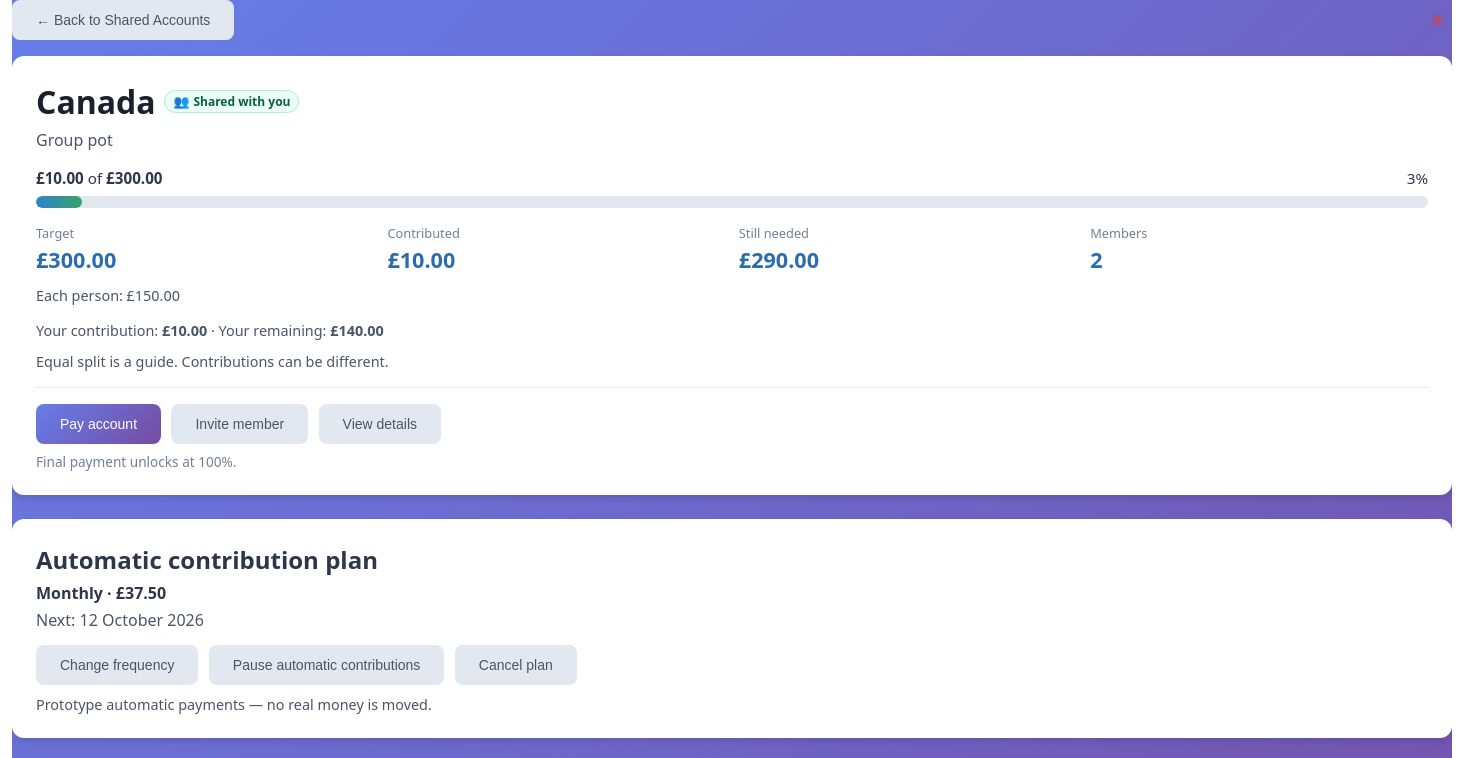
Test: SharedAccountDetail contribution plan management › previews a frequency change and does not persist until confirmation
The width and height of the screenshot is (1464, 758).
Click the button "Change frequency" at (117, 665), box [36,645,198,685]
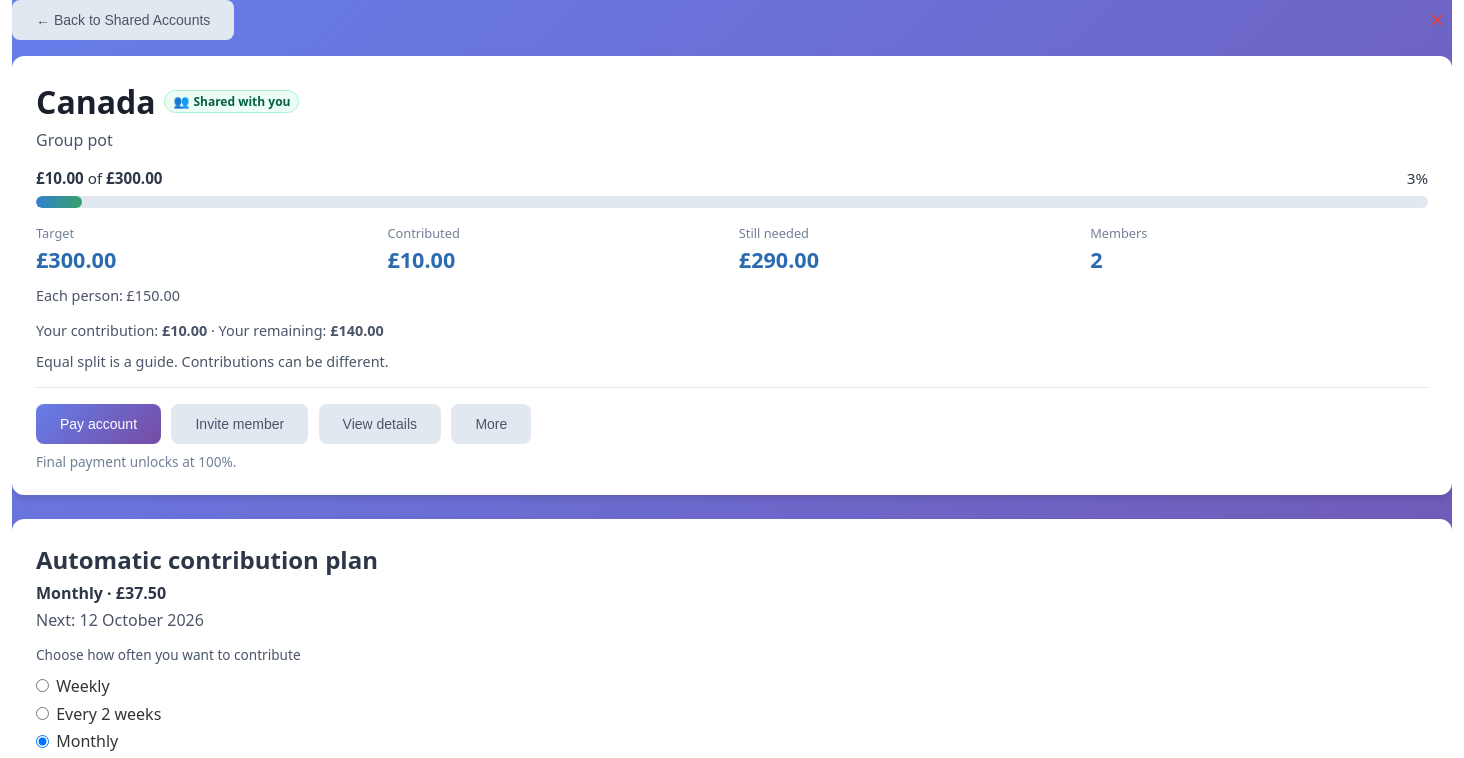
Click the radio button labelled "Every 2 weeks" at (42, 714), box [36,707,49,720]
(page scrolled)
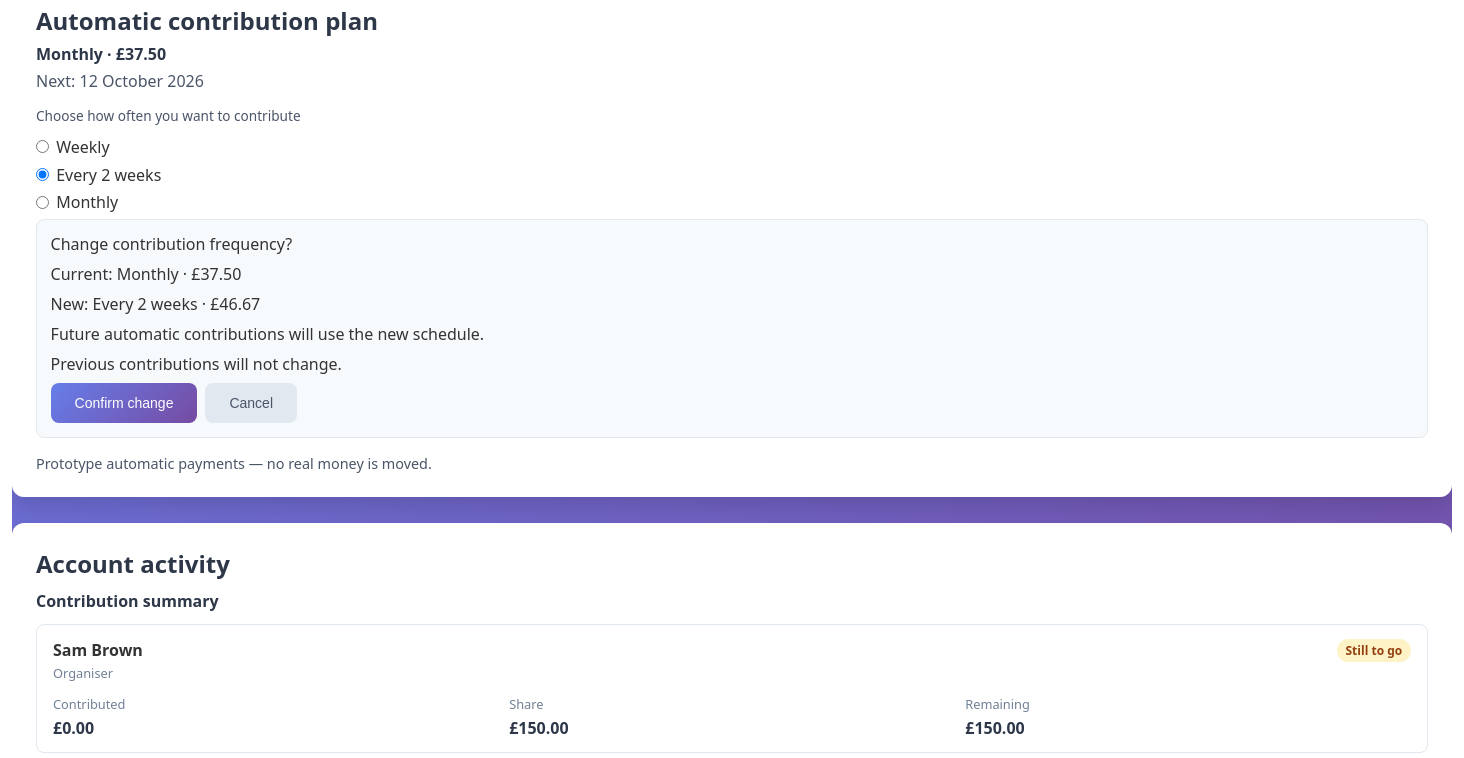
Expected: the text "Change contribution frequency?" is shown, [51,233,292,255]
Expected: the element with test id "member-contribution-plan-summary" shows "Previous contributions will not change.", [51,353,342,375]
Click the button "Cancel" at (251, 403), box [205,383,297,423]
(page scrolled)
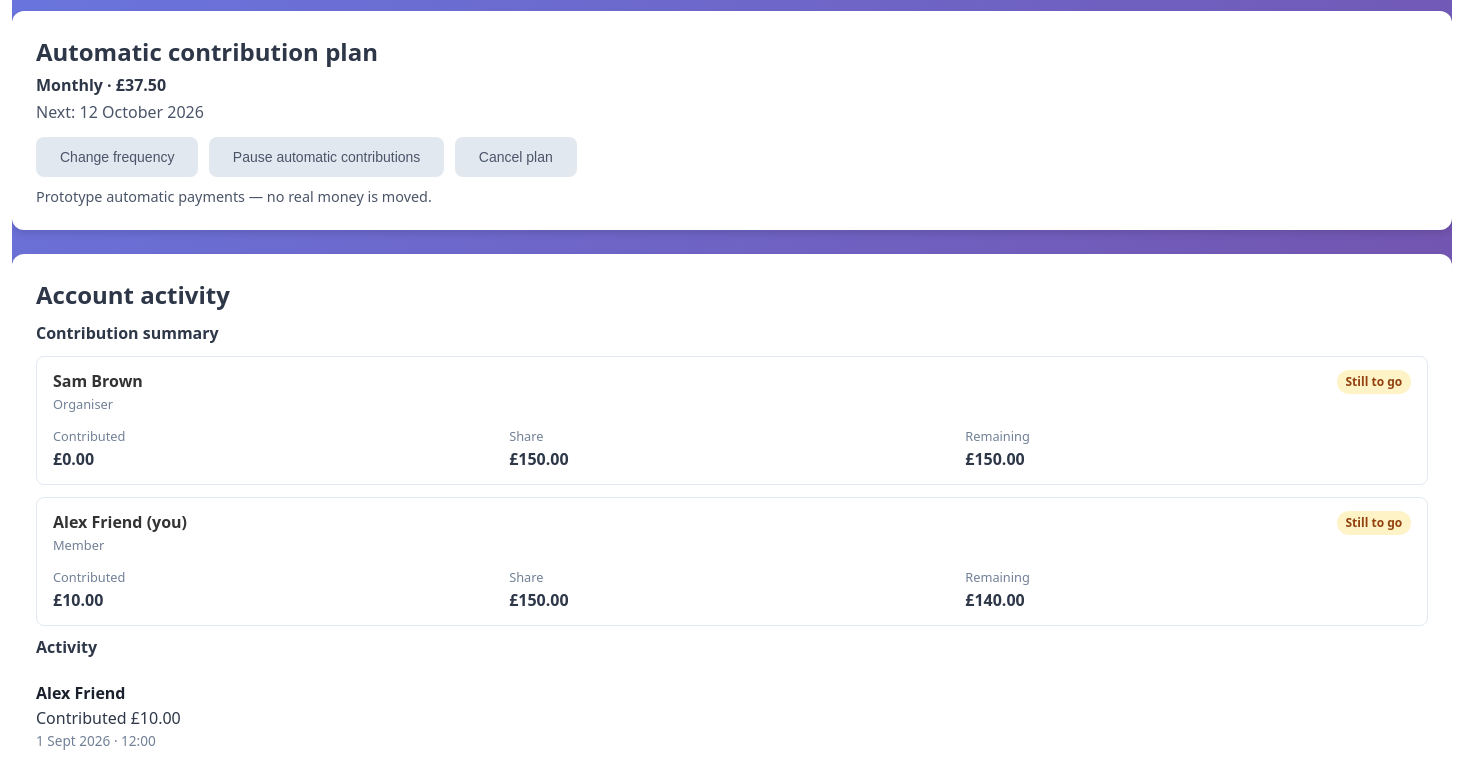
Expected: the element with test id "member-contribution-plan-summary" shows "Monthly · £37.50", [36,74,166,96]
Expected: the label "Every 2 weeks" is gone
